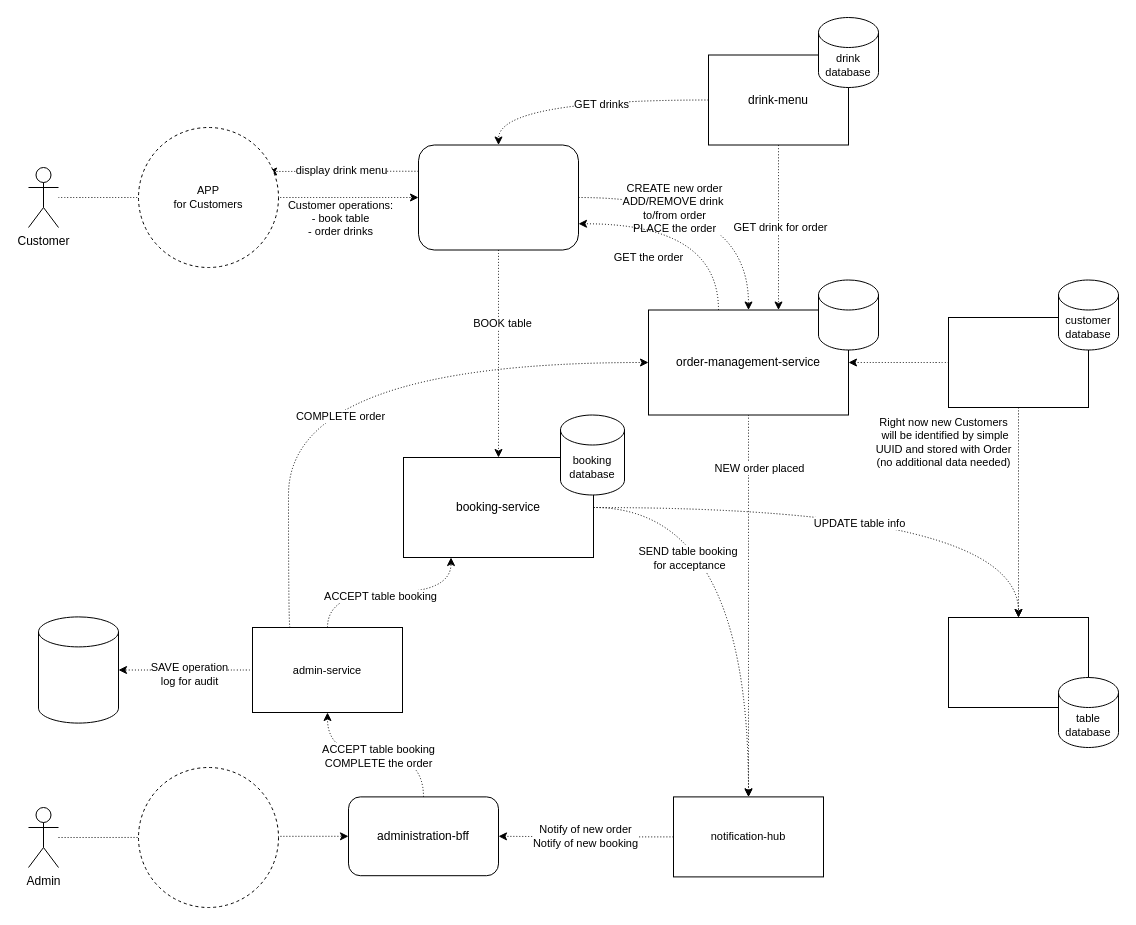
This 1136x925 diagram has some shape labels left out. The centre of each missing label's shape, as x and y in pixels:
"APP for Admins" belongs at (x=208, y=837).
"customer-bff" belongs at (x=498, y=197).
"customer-profile (for later)" belongs at (x=1018, y=362).
"internal operations log" belongs at (x=78, y=669).
"order database" belongs at (x=848, y=314).
"table-info" belongs at (x=1018, y=662).
